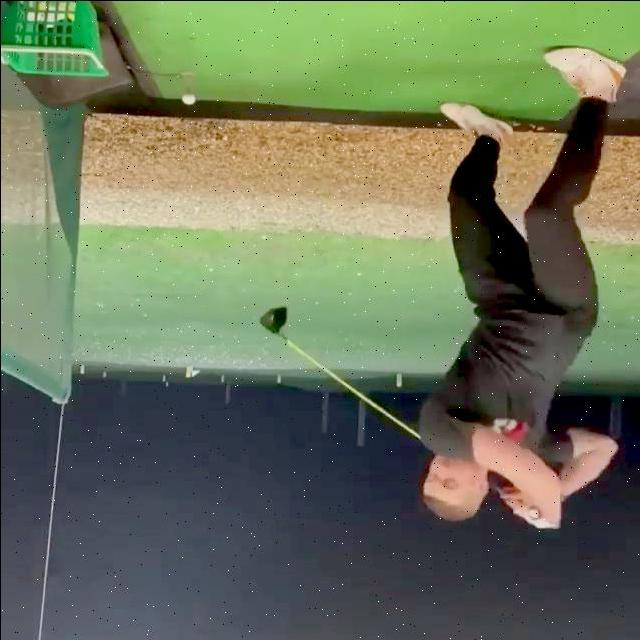golf ball: (180, 91, 196, 104)
golf club-handle: (255, 301, 510, 500)
golf club-head: (257, 303, 287, 332)
